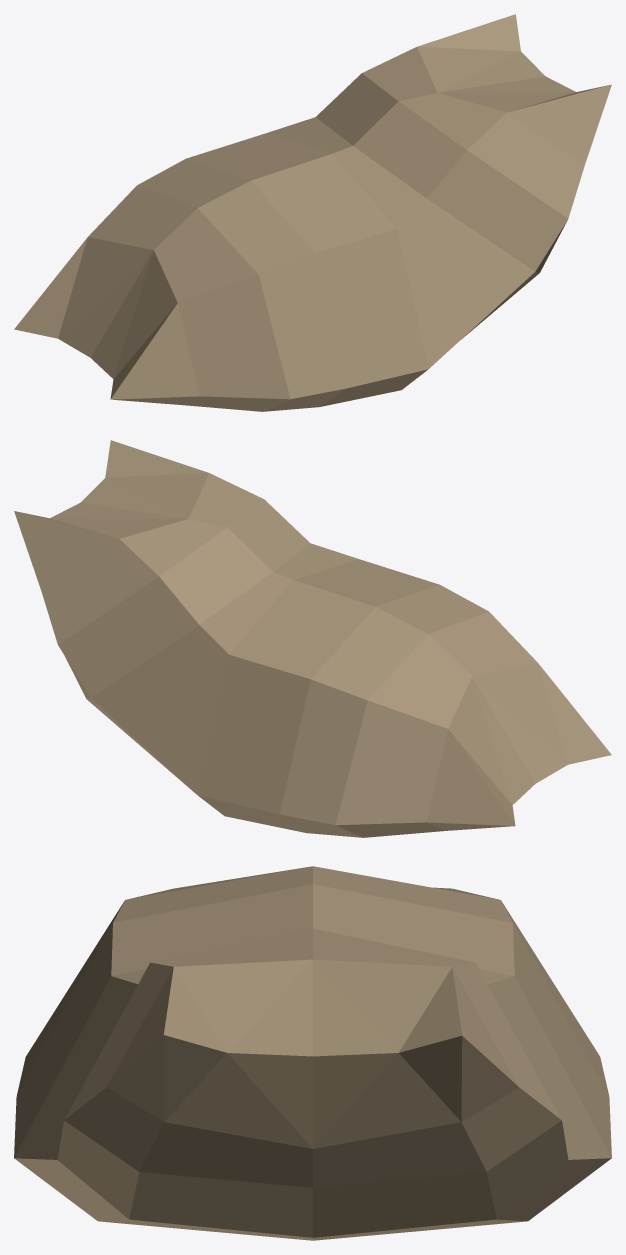
The model's file is MO_SackTilted.fbx.
3 renders of one model, top to bottom at view 1: azimuth 30°, elevation 25°; view 2: azimuth 150°, elevation 25°; view 3: azimuth 270°, elevation 25°, orthographic. The views are drawn at different scales.
Visible parts, largest first — view 1: pCube2; view 2: pCube2; view 3: pCube2.
Boxes of the visible parts, box(x1,y1,x2,y2) form: pCube2: box(14, 14, 611, 411); pCube2: box(14, 440, 611, 837); pCube2: box(14, 866, 611, 1240).
Size of the model in its own units: 2.77 by 1.3 by 1.85.
